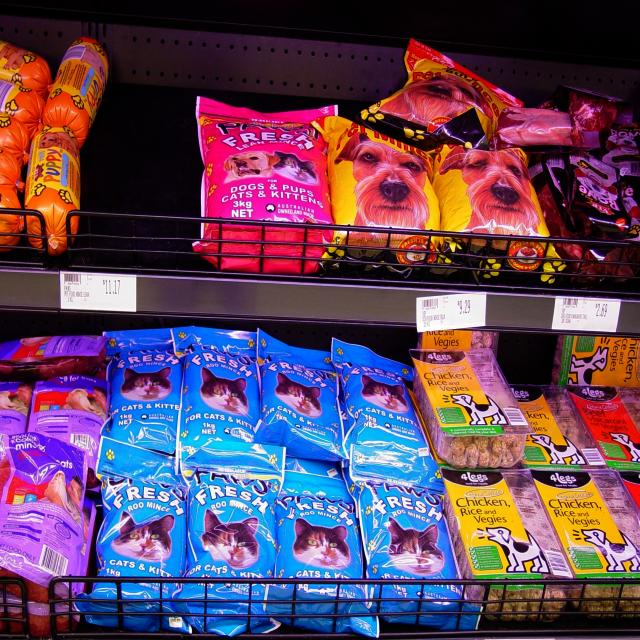empty_space: (114, 77, 190, 239)
